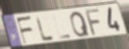4: (107, 6, 123, 35)
F: (16, 15, 34, 46), (85, 8, 102, 38)
L: (34, 15, 55, 43), (52, 14, 72, 40)
Q: (70, 11, 91, 39)
